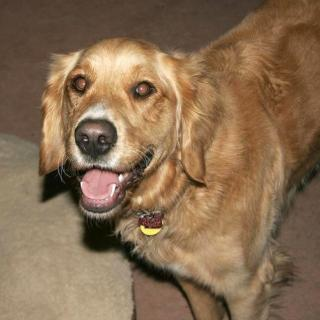dog: (26, 29, 224, 230)
nose: (75, 119, 116, 159)
